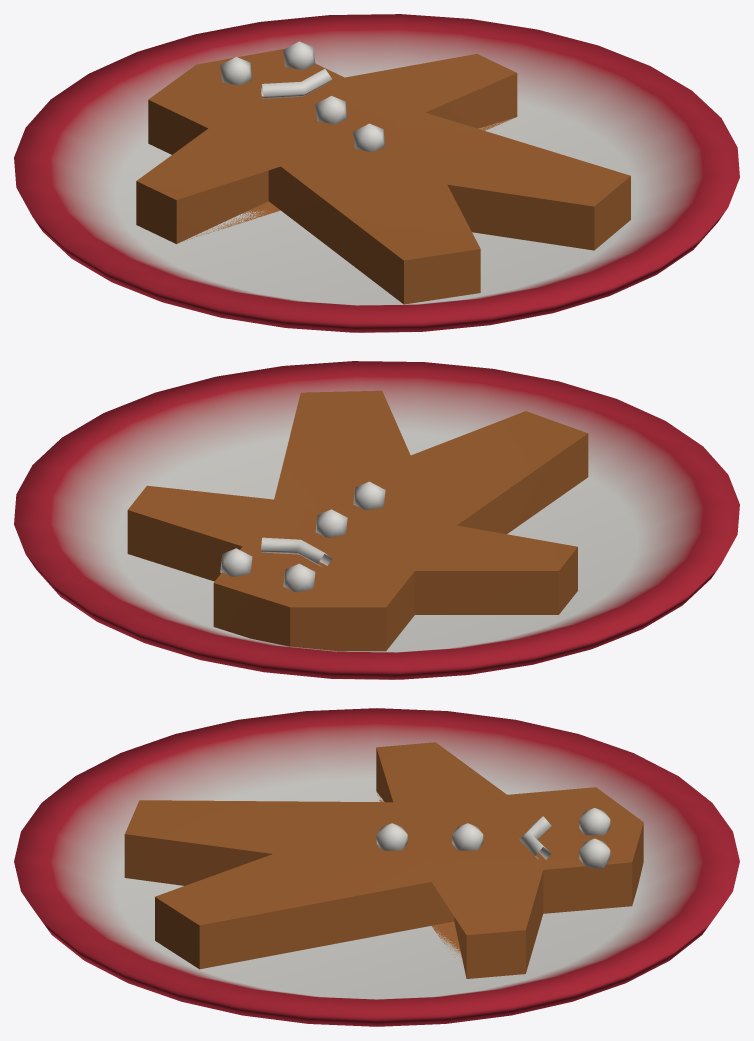
Rendered from item_dish_gingerbread.glb.
The picture shows the model from 3 angles, top to bottom: view 1: azimuth 30°, elevation 25°; view 2: azimuth 150°, elevation 25°; view 3: azimuth 270°, elevation 25°; orthographic projection.
Parts seen in each view (by area): view 1: item_dish_gingerbread_main; view 2: item_dish_gingerbread_main; view 3: item_dish_gingerbread_main.
Part boxes in pixels (x1,y1,x2,y2): item_dish_gingerbread_main: (14, 14, 739, 332); item_dish_gingerbread_main: (14, 361, 739, 679); item_dish_gingerbread_main: (14, 708, 739, 1026).
Bounding box in the file's own units: 0.24 × 0.034 × 0.24.
